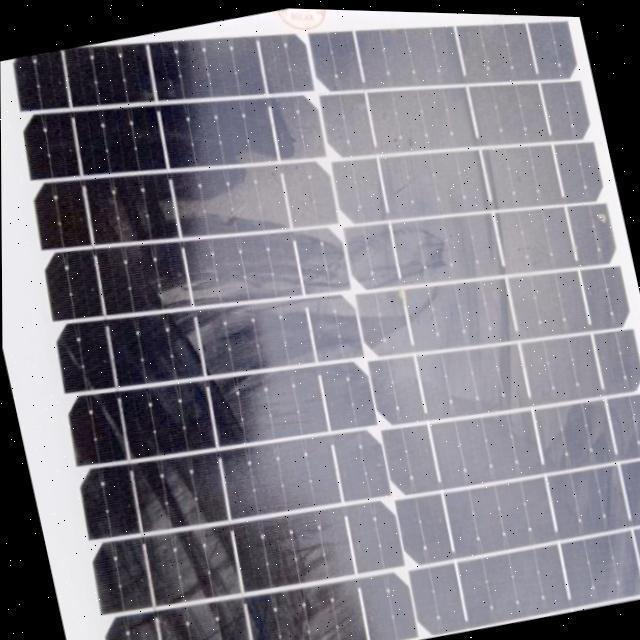Anomaly Solar Panel: (0, 0, 640, 640)
Surface Contaminant: (0, 9, 640, 640)
